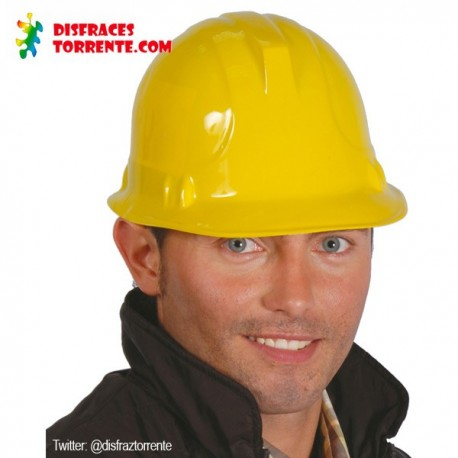casco: (106, 9, 409, 240)
